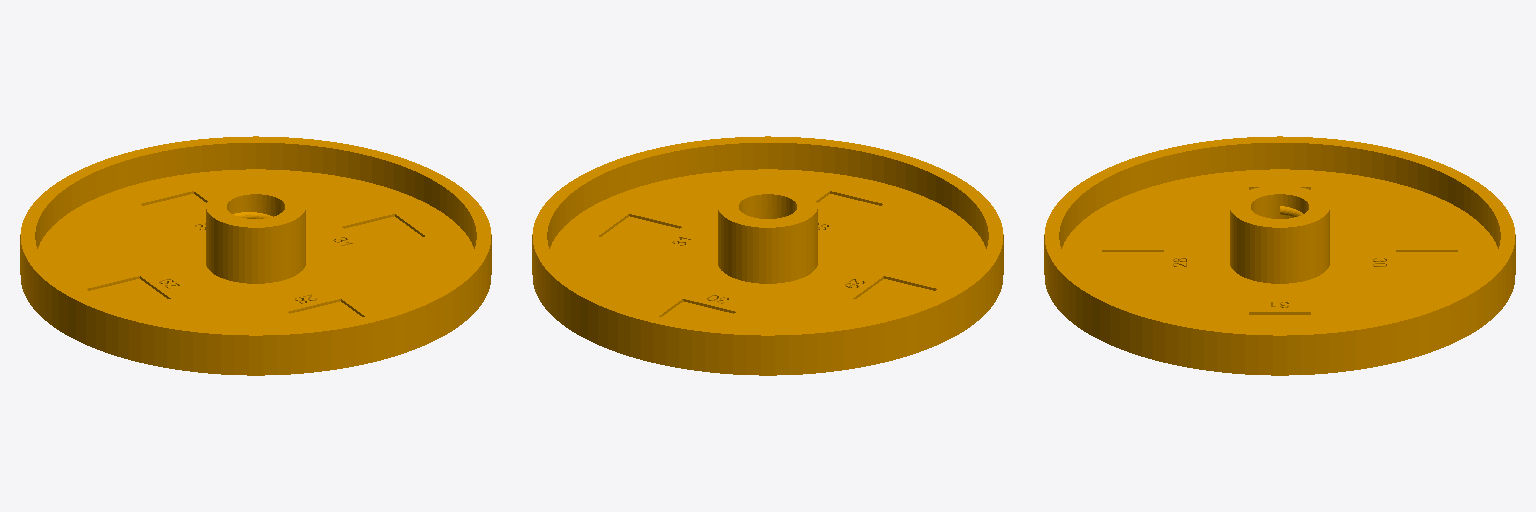
URDF robot description (round_table_top):
<?xml version="1.0"?>
<robot name="round_table_top">
    <link name="round_table_top">
        <visual>
            <geometry>
                <mesh filename="../mesh/round_table/round_table_top.obj" scale="1 1 1"/>
            </geometry>
        </visual>
        <collision>
            <geometry>
                <mesh filename="../mesh/round_table/round_table_top.obj" scale="1 1 1"/>
            </geometry>
            <sdf resolution="512"/>
        </collision>
        <!-- <inertial>
            <mass value="1."/>
            <inertia ixx="0.0001" ixy="0.0" ixz="0.0" iyy="0.0001" iyz="0.0" izz="0.0001"/>
        </inertial> -->
    </link>
</robot>

--- Render facts (derived) ---
3 views of the same robot in one strip: view 1: azimuth 30°, elevation 25°; view 2: azimuth 150°, elevation 25°; view 3: azimuth 270°, elevation 25° (orthographic).
Robot: round_table_top — 1 links, 0 joints (none); root link round_table_top; default pose: every joint at zero.
Visible links, largest first — view 1: round_table_top; view 2: round_table_top; view 3: round_table_top.
Boxes of the visible links, <box> form: round_table_top: <box>20,136,491,375</box>; round_table_top: <box>532,136,1003,375</box>; round_table_top: <box>1044,136,1515,375</box>.
Size in the robot's own frame: 0.2 by 0.2 by 0.0325 metres.
1 mesh visuals loaded from 1 distinct referenced files (1 OBJ).